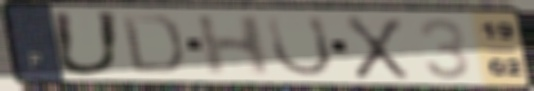3: (417, 16, 471, 80)
D: (118, 11, 187, 77)
H: (193, 13, 273, 78)
U: (48, 8, 126, 78), (264, 13, 337, 79)
X: (341, 13, 412, 82)
